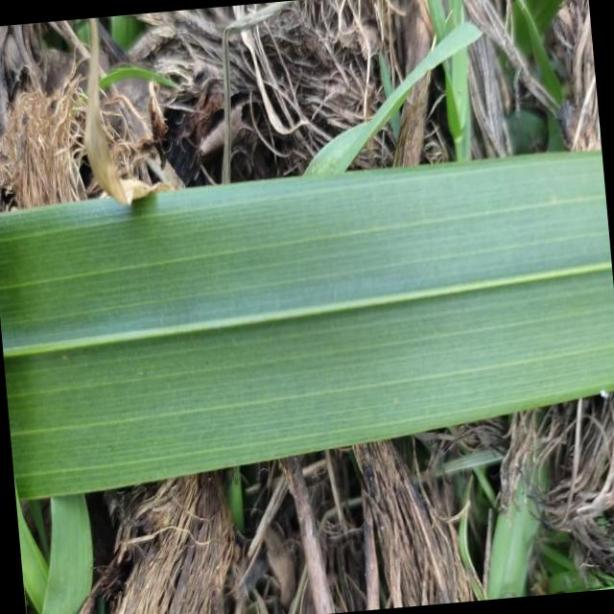Healthy: (0, 150, 614, 502)
